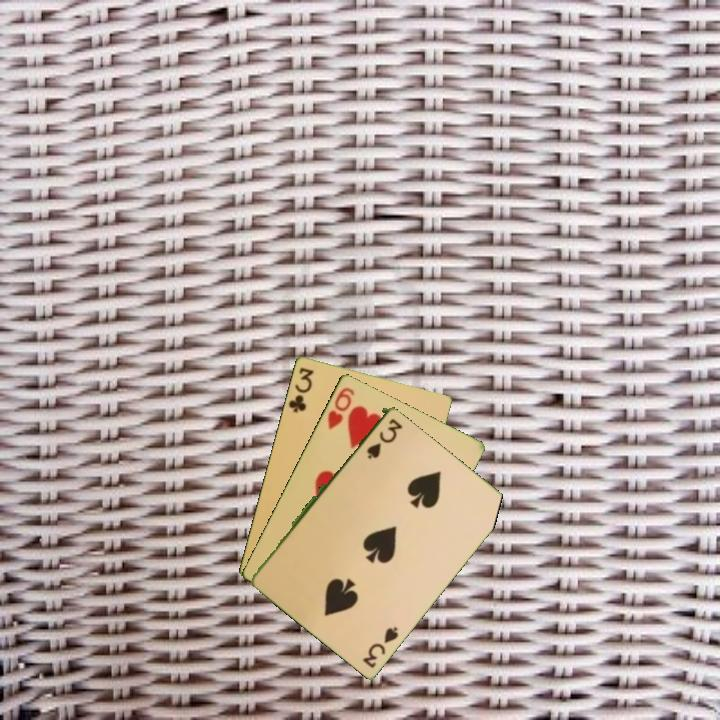3c: (285, 364, 317, 415)
3s: (359, 622, 401, 671), (363, 414, 403, 462)
6h: (324, 383, 357, 432)
